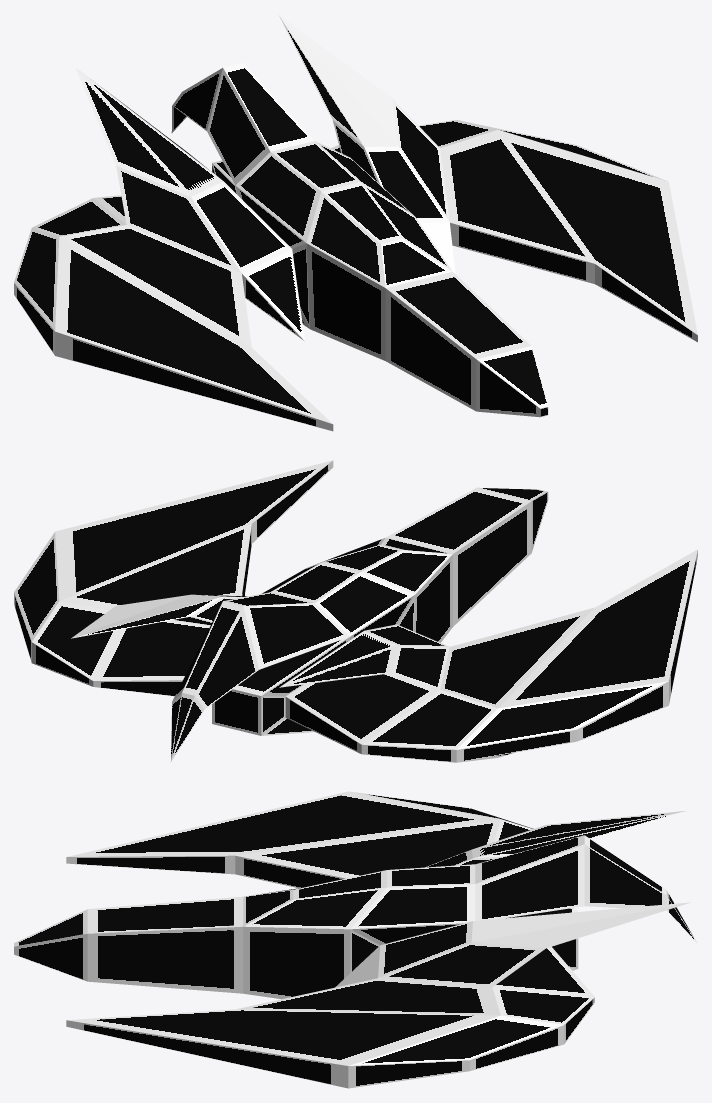
File: Player.fbx
3 views of the same model, one above another, from view 1: azimuth 30°, elevation 25°; view 2: azimuth 150°, elevation 25°; view 3: azimuth 270°, elevation 25° (orthographic). The views are drawn at different scales.
Visible parts, largest first — view 1: Player; view 2: Player; view 3: Player.
Boxes of the visible parts, x1,y1,x2,y2 form: Player: (14,15,697,431); Player: (14,460,697,762); Player: (14,791,697,1088).
Bounding box in the file's own units: 241 × 59.46 × 254.
2 materials, 2 textured.
